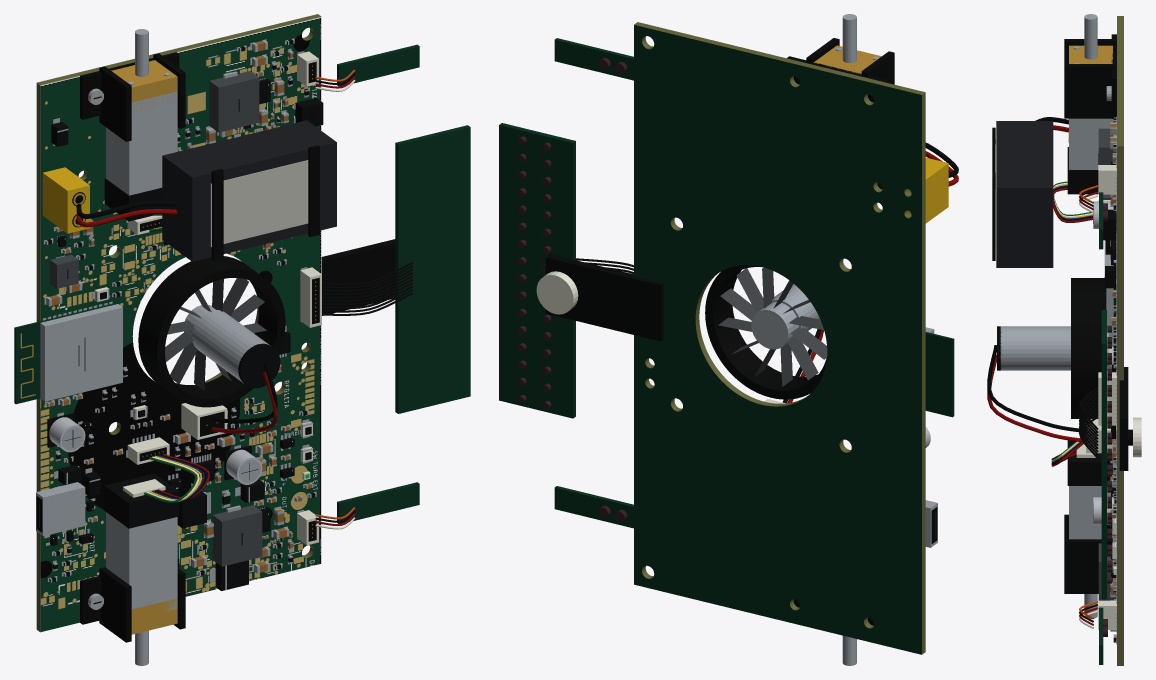
Rendered from body.obj.
3 renders of one model, left to right at view 1: azimuth 30°, elevation 25°; view 2: azimuth 150°, elevation 25°; view 3: azimuth 270°, elevation 25°, orthographic. The views are drawn at different scales.
Visible parts, largest first — view 1: PCB_RevQ, Sensor_bar_reference, Battery_2S_400mAh_estimated, Turbine_32mm, Pololu5178_right, U1, Pololu5178_left, Pololu1089_left, Front_skid_estimated, Pololu1089_right, L11, L20 (+16 smaller); view 2: PCB_RevQ, Sensor_bar_reference, Turbine_32mm, Front_skid_estimated, U1, QTRX_HD_01A_left, QTRX_HD_01A_right, Pololu5178_left, Pololu1089_left, J20; view 3: Battery_2S_400mAh_estimated, Turbine_32mm, PCB_RevQ, Sensor_bar_reference, Pololu5178_left, Pololu1089_left, Pololu5178_right, Pololu1089_right, Front_skid_estimated, QTRX_HD_01A_left, QTRX_HD_01A_right, J30 (+11 smaller).
Part boxes in pixels (x1,y1,x2,y2): PCB_RevQ: [36, 14, 321, 632]; Sensor_bar_reference: [324, 125, 470, 413]; Battery_2S_400mAh_estimated: [76, 120, 336, 261]; Turbine_32mm: [138, 256, 285, 433]; Pololu5178_right: [104, 473, 179, 665]; U1: [14, 301, 122, 404]; Pololu5178_left: [104, 29, 177, 221]; Pololu1089_left: [80, 52, 185, 141]; Front_skid_estimated: [321, 239, 395, 315]; Pololu1089_right: [80, 558, 185, 642]; L11: [209, 71, 259, 132]; L20: [212, 505, 262, 566]; PCB_RevQ: [634, 22, 925, 654]; Sensor_bar_reference: [499, 123, 633, 418]; Turbine_32mm: [705, 265, 827, 403]; Front_skid_estimated: [536, 254, 663, 341]; U1: [925, 327, 954, 417]; QTRX_HD_01A_left: [554, 38, 633, 80]; QTRX_HD_01A_right: [554, 486, 633, 528]; Pololu5178_left: [813, 14, 882, 189]; Pololu1089_left: [787, 38, 894, 102]; J20: [908, 157, 948, 223]; Battery_2S_400mAh_estimated: [992, 117, 1068, 267]; Turbine_32mm: [987, 278, 1108, 442]; PCB_RevQ: [1117, 16, 1123, 665]; Sensor_bar_reference: [1079, 310, 1111, 599]; Pololu5178_left: [1067, 14, 1112, 194]; Pololu1089_left: [1064, 34, 1116, 118]; Pololu5178_right: [1067, 440, 1112, 618]; Pololu1089_right: [1064, 514, 1101, 593]; Front_skid_estimated: [1119, 367, 1141, 470]; QTRX_HD_01A_left: [1079, 185, 1107, 249]; QTRX_HD_01A_right: [1079, 601, 1107, 664]; J30: [1098, 371, 1116, 425].
Bounding box in the file's own units: 0.1115 × 0.15 × 0.035.
Materials: 21 (1 with a texture image).
